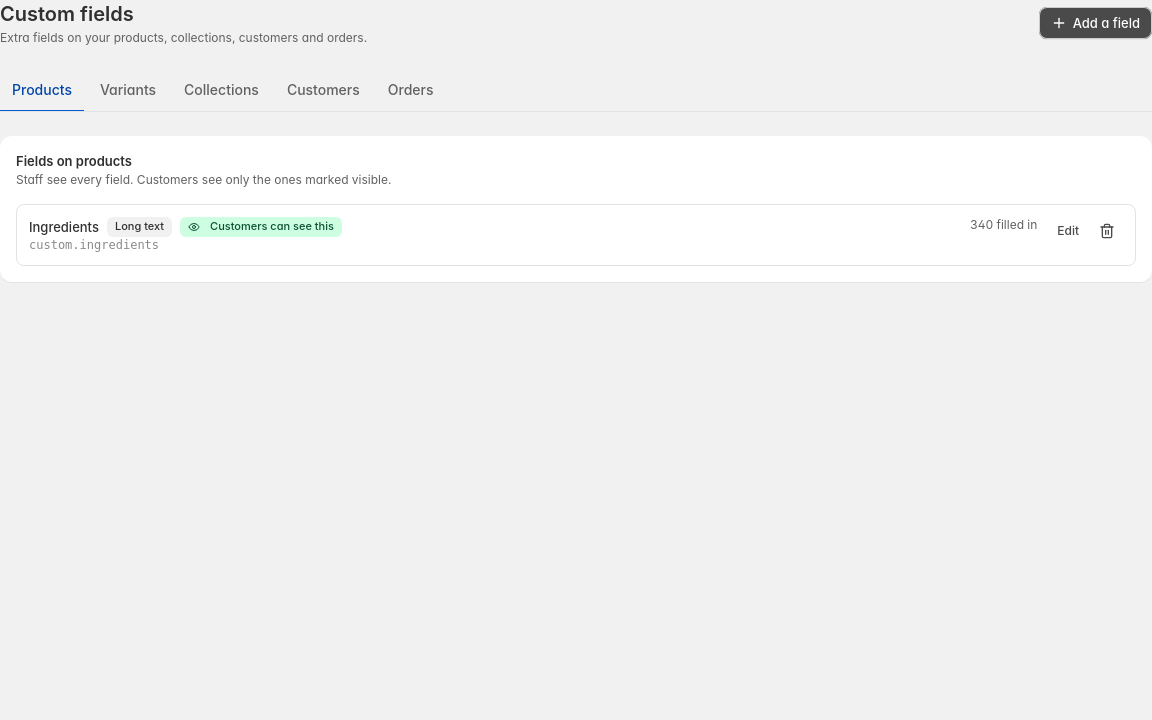
Scenario: the definitions screen › names how many values a delete would destroy
Click the button named "Delete Ingredients" at coordinates (1107, 231), box x1=1091 y1=217 x2=1123 y2=245
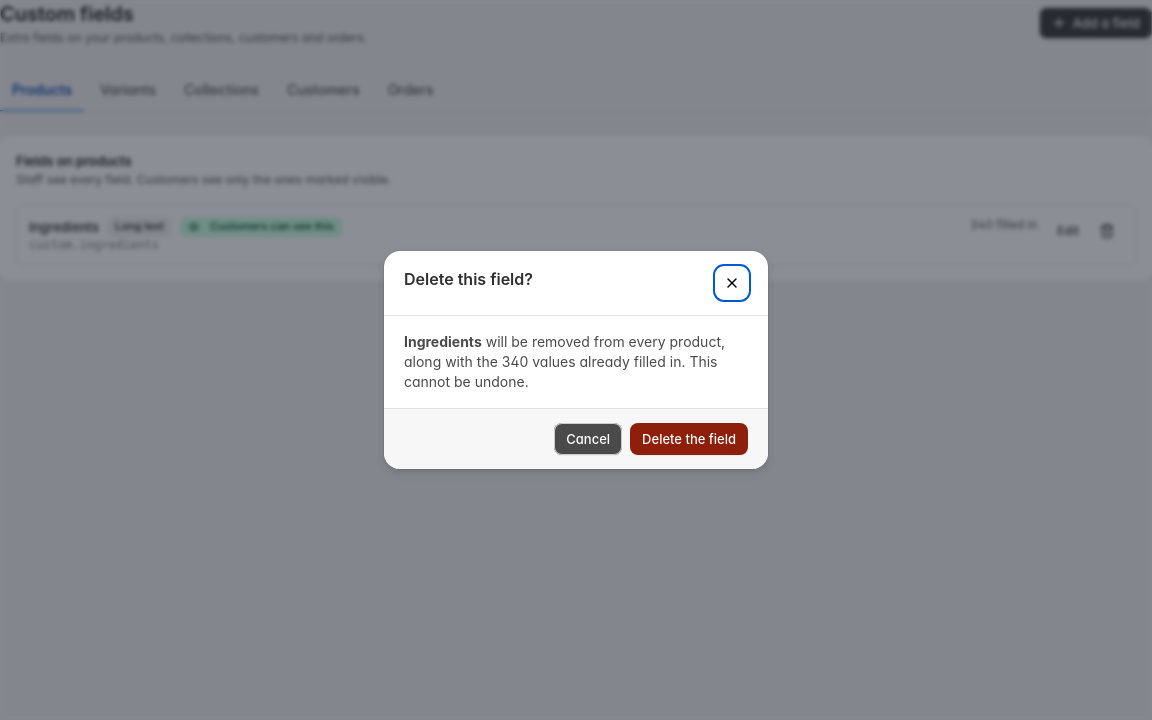
Now the text "the 340 values already filled in" is shown, box x1=477 y1=353 x2=681 y2=370
